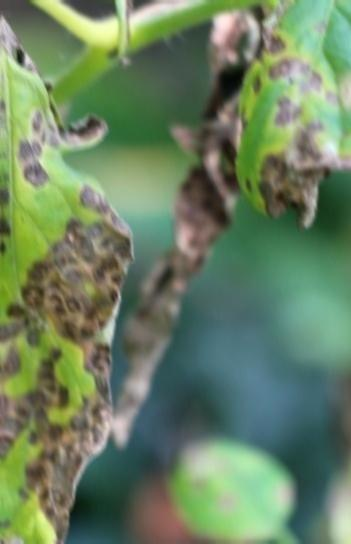Tomato leaf bacterial spot: (0, 0, 147, 544), (216, 0, 351, 233)
